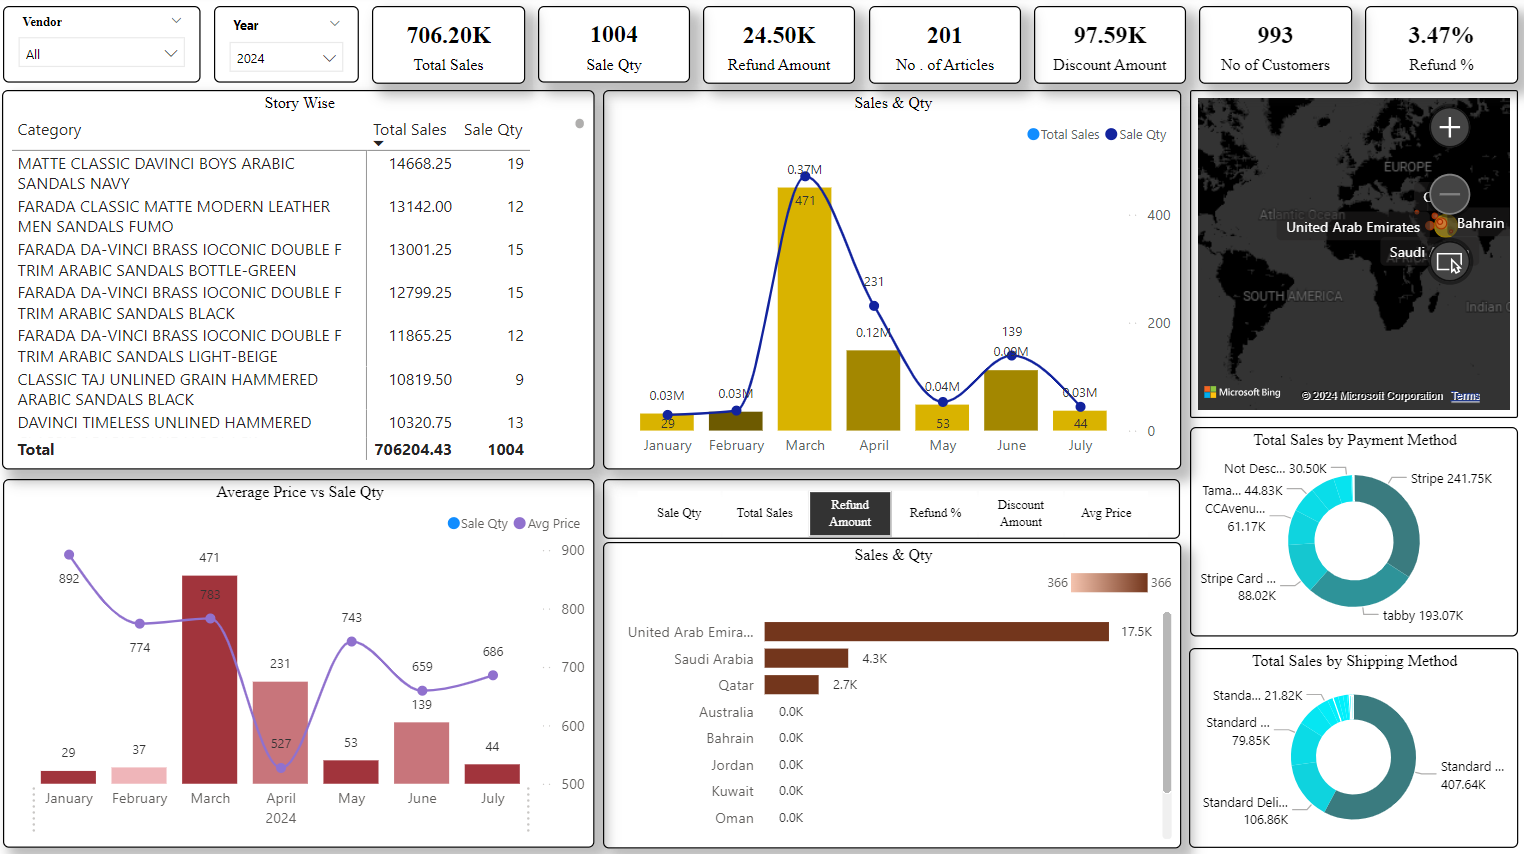

The page's visual inventory and layout, read from the dashboard file:
{"tool":"powerbi","page":{"name":"Page 1","canvas":[1280,720],"ordinal":0},"visuals":[{"type":"pivotTable","title":"Story Wise","fields":{"Rows":["Data.Category"],"Values":["Custom Measures.Total Sales","Custom Measures.Qty"]},"box":[5.5,78.7,495.3,316.8],"z":0},{"type":"slicer","fields":{"Values":["Data.Vendor"]},"box":[6.7,8,164.5,64],"z":1000},{"type":"slicer","fields":{"Values":["Data.Paid at.Variation.Date Hierarchy.Year"]},"box":[182.5,8,120.7,64],"z":2000},{"type":"lineStackedColumnComboChart","title":"Sales & Qty","fields":{"Category":["Data.Paid at.Variation.Date Hierarchy.Month","Data.Paid at.Variation.Date Hierarchy.Day"],"Y":["Custom Measures.Total Sales"],"Y2":["Custom Measures.Qty"]},"box":[507.9,78.6,482.9,317.1],"z":3000},{"type":"map","fields":{"Category":["Data.Shipping Country Name"],"Size":["Custom Measures.Total Sales"]},"box":[998.4,78.9,274,274],"z":4000},{"type":"card","fields":{"Values":["Custom Measures.Total Sales"]},"box":[314.5,8,127.7,64.7],"z":5000},{"type":"card","fields":{"Values":["Custom Measures.Qty"]},"box":[453.5,8,126.8,63.8],"z":6000},{"type":"card","fields":{"Values":["Custom Measures.Refund Amount"]},"box":[591.5,8,126.8,64.7],"z":7000},{"type":"card","fields":{"Values":["Count(Data.Lineitem sku)"]},"box":[729.6,8,126.8,64.7],"z":8000},{"type":"card","fields":{"Values":["Custom Measures.Discount Amount"]},"box":[867.7,8,126.8,64.7],"z":9000},{"type":"card","fields":{"Values":["Count(Data.Name)"]},"box":[1005.8,8,127.7,64.7],"z":10000},{"type":"donutChart","fields":{"Category":["Data.Payment Method"],"Y":["Custom Measures.Total Sales"]},"box":[998.1,360,274,175.4],"z":11000},{"type":"donutChart","fields":{"Category":["Data.Shipping Method"],"Y":["Custom Measures.Total Sales"]},"box":[997.3,544.6,274.8,167.1],"z":12000},{"type":"clusteredBarChart","title":"Sales & Qty","fields":{"Y":["Custom Measures.Refund Amount"],"Category":["Data.Shipping Country Name"]},"box":[508.1,455.8,483.3,256.3],"z":13000},{"type":"card","fields":{"Values":["Custom Measures.Refund %"]},"box":[1144.7,8,127.7,64.7],"z":14000},{"type":"lineStackedColumnComboChart","title":"Average Price vs Sale Qty","fields":{"Category":["Data.Paid at.Variation.Date Hierarchy.Year","Data.Paid at.Variation.Date Hierarchy.Month"],"Y":["Custom Measures.Sale Qty"],"Y2":["Custom Measures.Avg Price"]},"box":[6.7,403.4,494.5,308.2],"z":15000},{"type":"slicer","fields":{"Values":["Parameter.Parameter"]},"box":[507.8,403.4,482,50],"z":16000}]}

Visuals, with their boxes in screenshot pixels (x1, y1, x2, y2), scaled from the page's 1280x720 canvas onto the 1524x854 screenshot:
"Story Wise" pivotTable: 7:93:596:469
slicer - Data.Vendor: 8:9:204:85
slicer - Data.Paid at.Variation.Date Hierarchy.Year: 217:9:361:85
"Sales & Qty" lineStackedColumnComboChart: 605:93:1180:469
map - Data.Shipping Country Name x Custom Measures.Total Sales: 1189:94:1515:419
card - Custom Measures.Total Sales: 374:9:526:86
card - Custom Measures.Qty: 540:9:691:85
card - Custom Measures.Refund Amount: 704:9:855:86
card - Count(Data.Lineitem sku): 869:9:1020:86
card - Custom Measures.Discount Amount: 1033:9:1184:86
card - Count(Data.Name): 1198:9:1350:86
donutChart - Data.Payment Method x Custom Measures.Total Sales: 1188:427:1515:635
donutChart - Data.Shipping Method x Custom Measures.Total Sales: 1187:646:1515:844
"Sales & Qty" clusteredBarChart: 605:541:1180:845
card - Custom Measures.Refund %: 1363:9:1515:86
"Average Price vs Sale Qty" lineStackedColumnComboChart: 8:478:597:844
slicer - Parameter.Parameter: 605:478:1178:538
